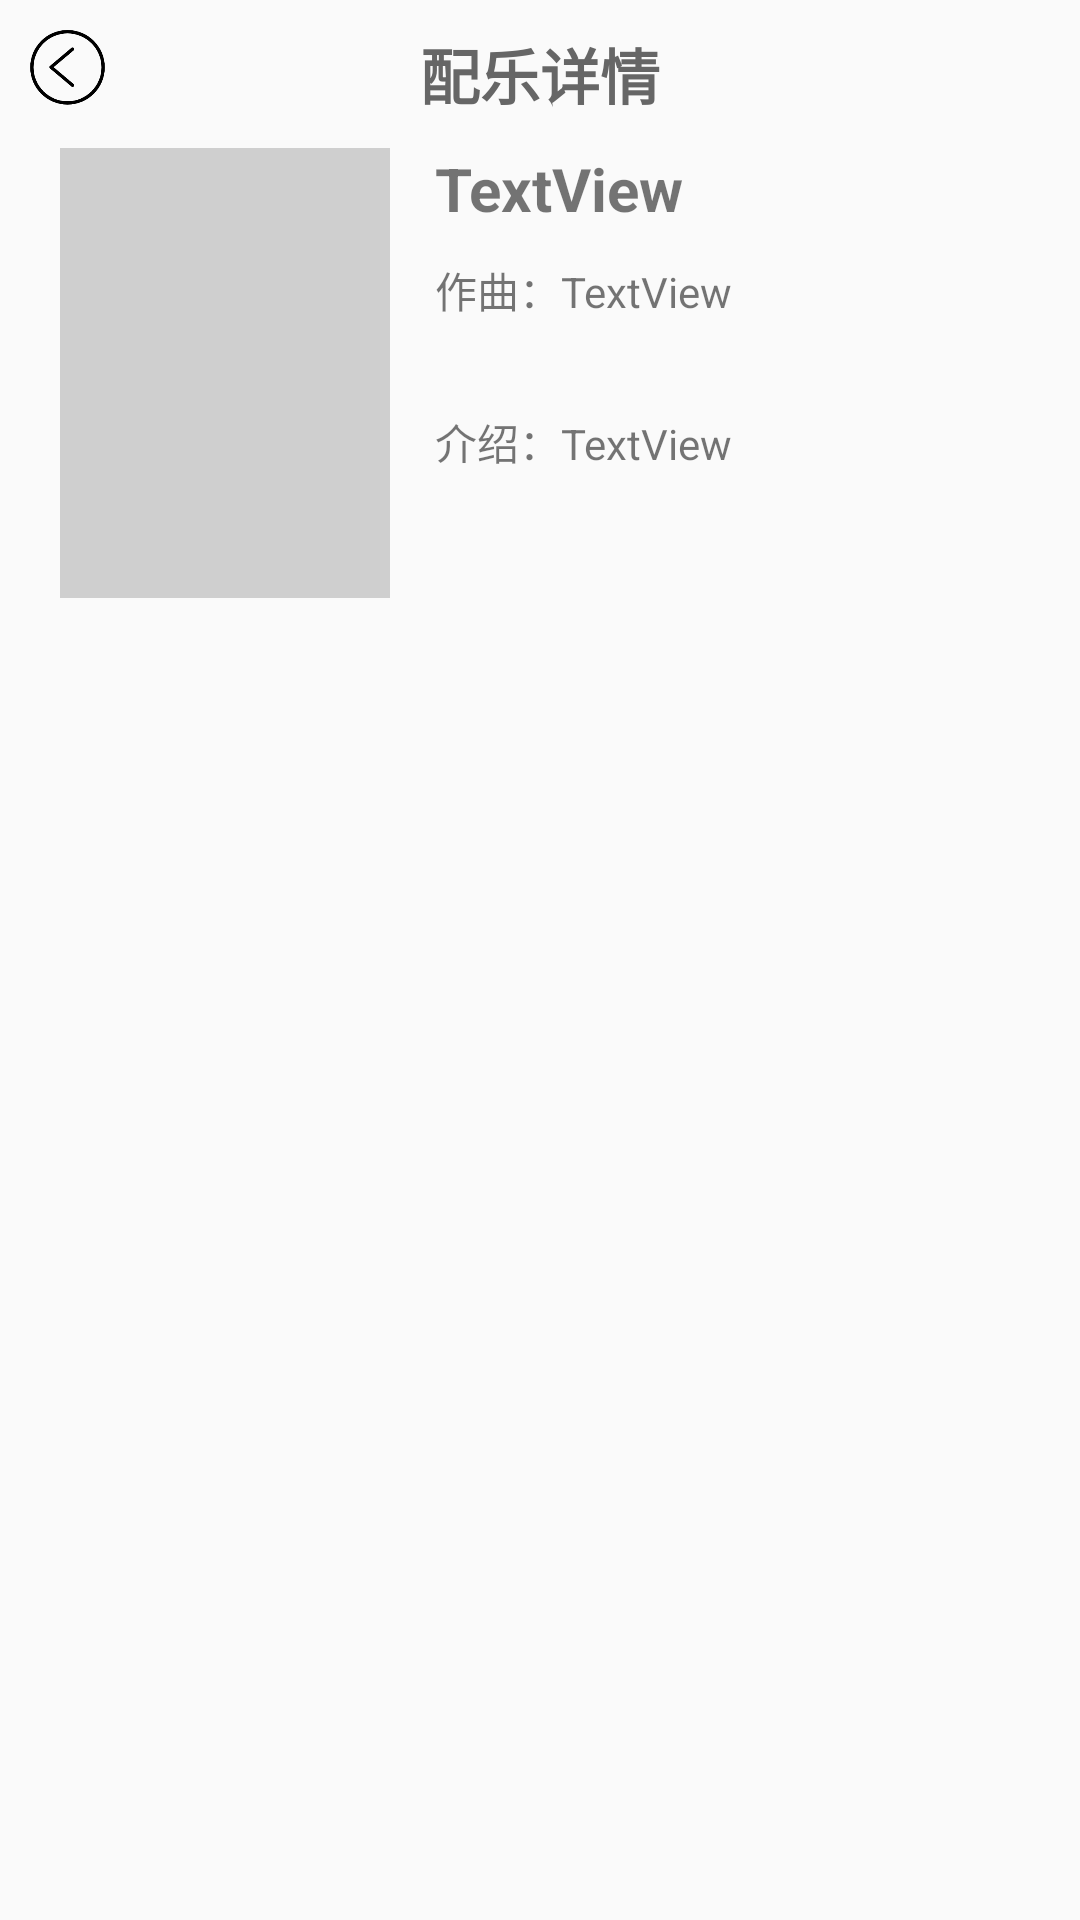

Named icons in this screenshot (1080 × 1920) and their bounding boxes, (x1, y1, x2, y2):
back: (30, 30, 105, 105)
